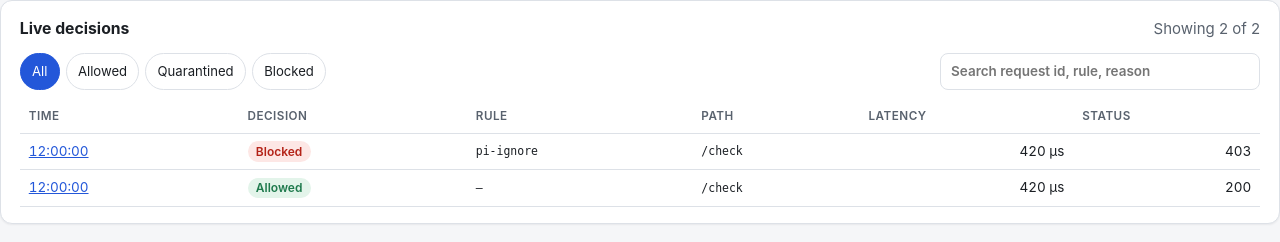
Test: DecisionFeed › filters by outcome chip and search
Step 1. Click the button "Blocked" → point(289, 71), box [252, 53, 326, 90]
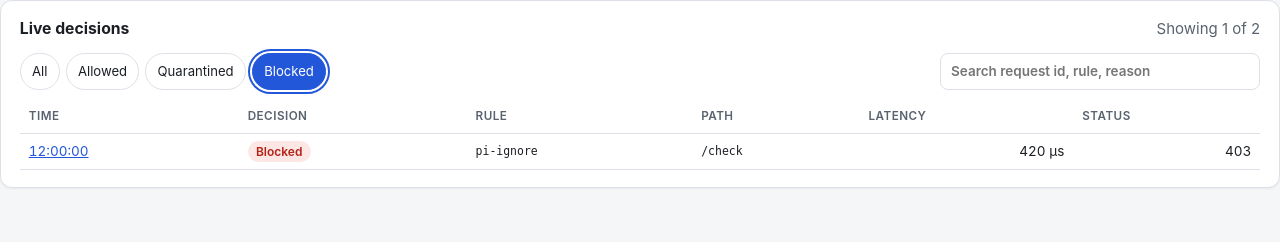
Now the number of rows with test id "decision-row" is 1, box [20, 134, 1260, 170]
Step 2. Click the button "All" → point(40, 71), box [20, 53, 60, 90]
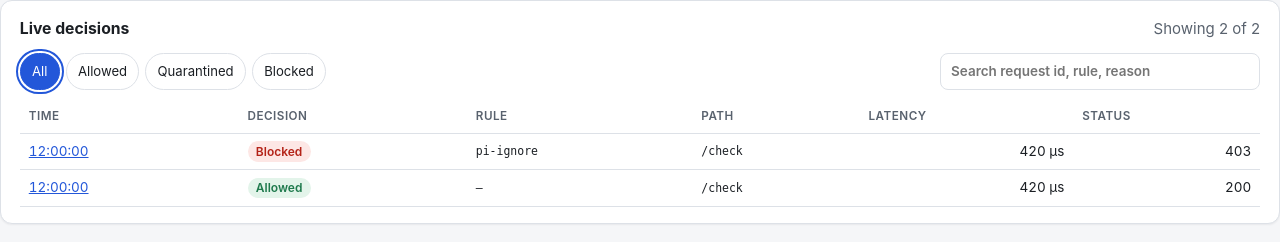
Step 3. Type "allow-1" into the search field named "Search decisions" → point(1100, 71), box [940, 53, 1260, 90]
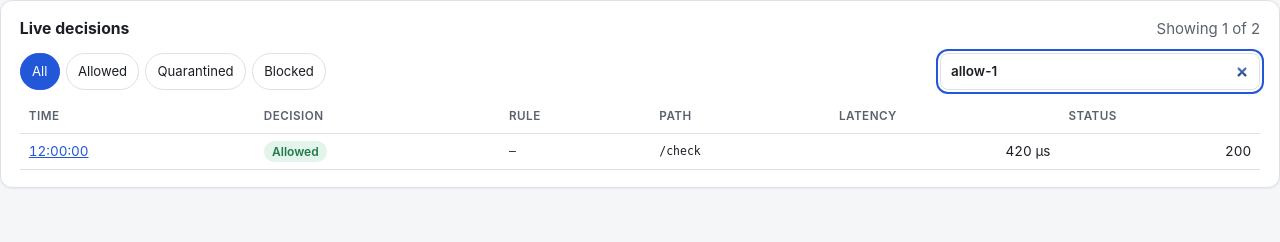
Now the text with test id "feed-count" reads "Showing 1 of 2", box [1157, 18, 1260, 39]
Step 4. Replace the text in the search field with "zzz" → point(1100, 71), box [940, 53, 1260, 90]
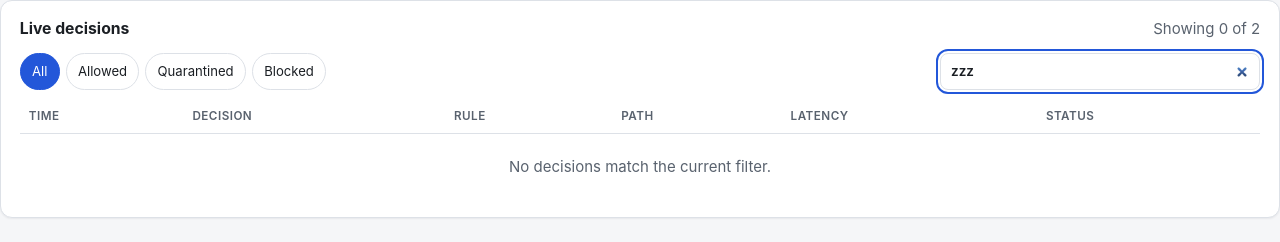
Now the text "No decisions match the current filter." is shown, box [509, 157, 771, 176]
